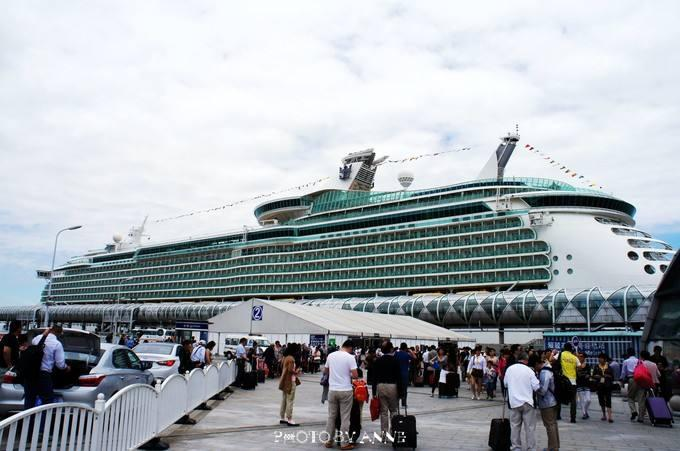youlun: (29, 125, 675, 348)
